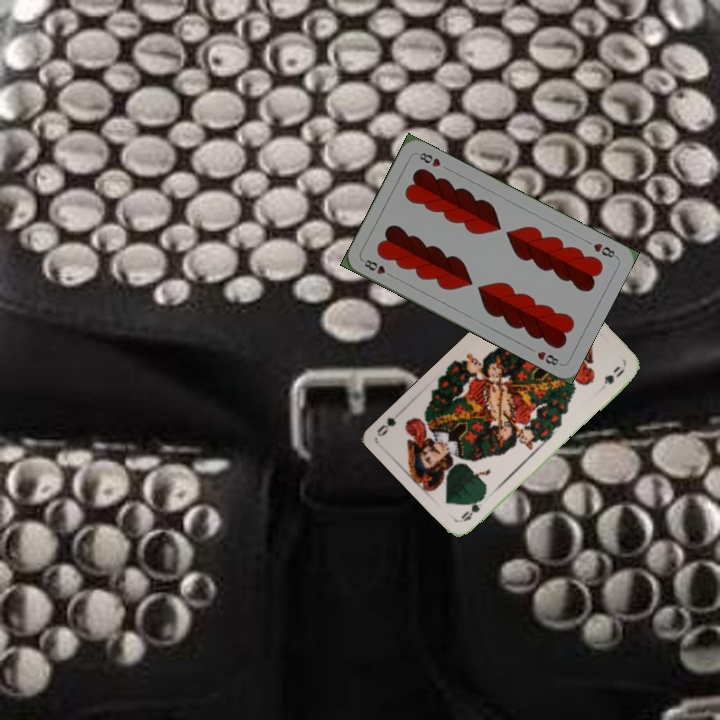GO: (457, 490, 488, 524)
H8: (359, 255, 397, 280), (590, 239, 619, 261)
